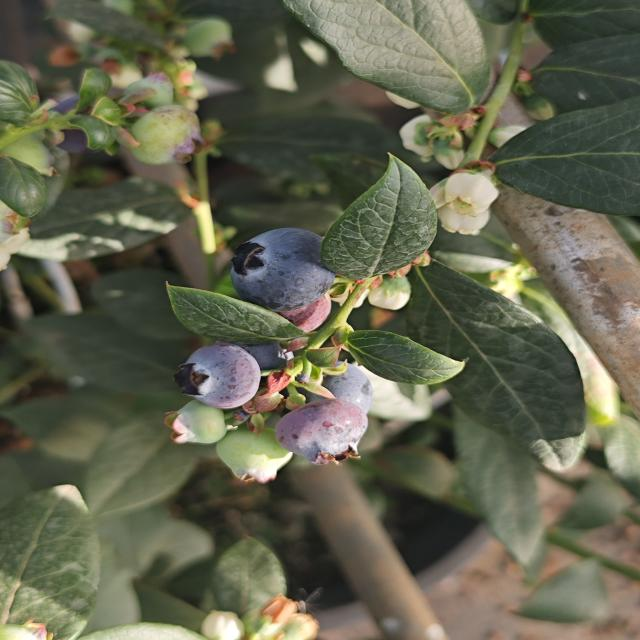ripe: (226, 226, 338, 315), (272, 397, 371, 468), (172, 342, 264, 412), (296, 350, 387, 420), (39, 96, 112, 159)
